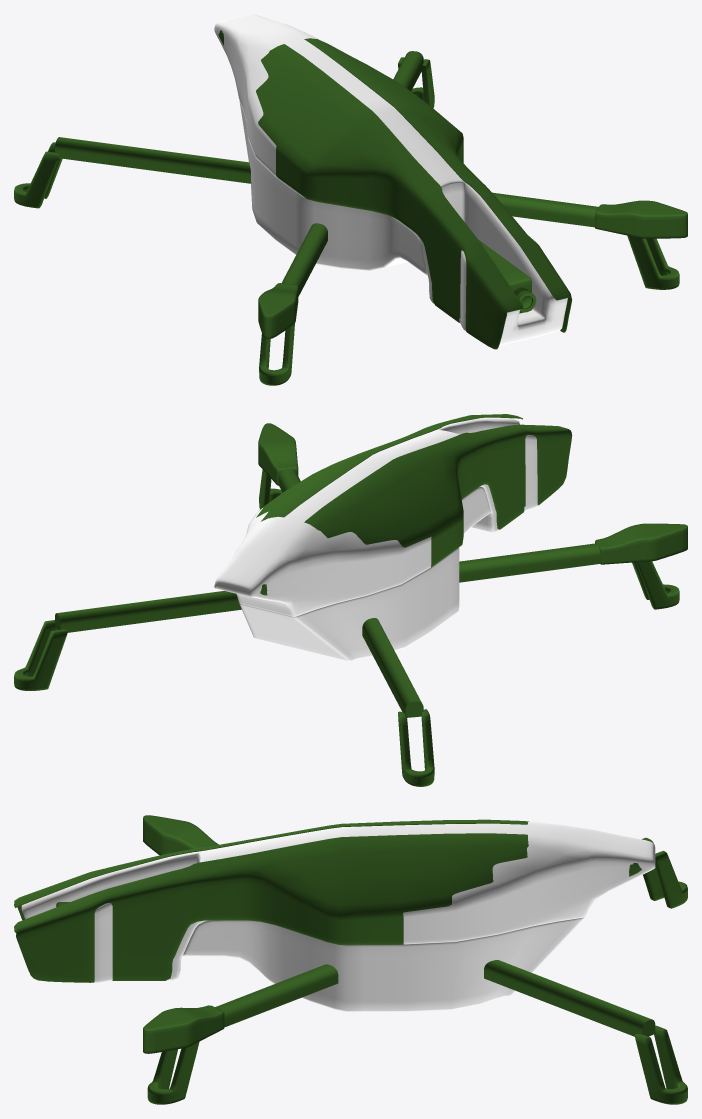
Rendered from body_02_green.4baf5f83.glb.
3 renders of one model, top to bottom at view 1: azimuth 30°, elevation 25°; view 2: azimuth 150°, elevation 25°; view 3: azimuth 270°, elevation 25°, orthographic. The views are drawn at different scales.
Visible parts, largest first — view 1: Extrude_2; view 2: Extrude_2; view 3: Extrude_2.
Part boxes in pixels (x1=…): Extrude_2: x1=14, y1=14, x2=687, y2=385; Extrude_2: x1=14, y1=414, x2=687, y2=786; Extrude_2: x1=14, y1=815, x2=687, y2=1104.
Size of the model in its own units: 8.91 by 3.31 by 11.79.
